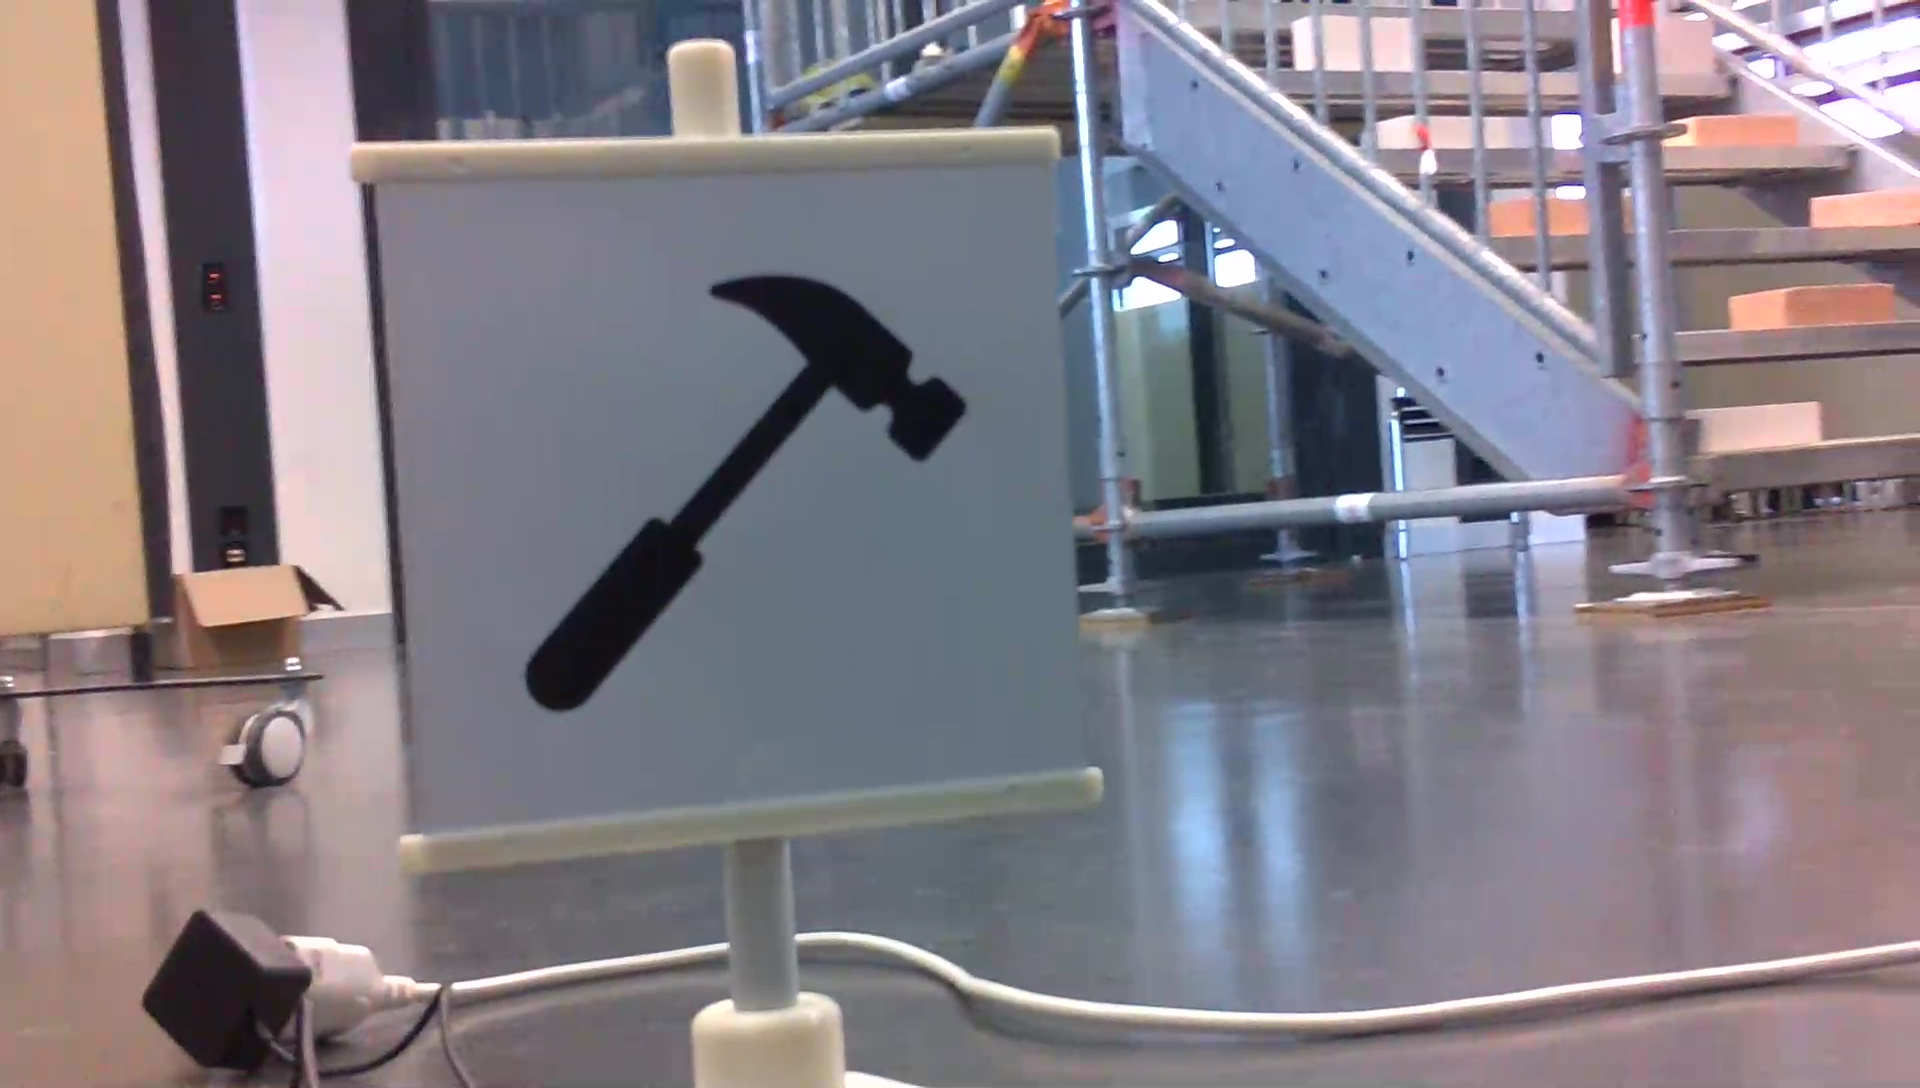brick: (1733, 285, 1892, 327), (1698, 402, 1818, 448), (1672, 115, 1797, 150), (1811, 187, 1920, 223), (1658, 18, 1708, 76)
hammer: (514, 265, 980, 717)
